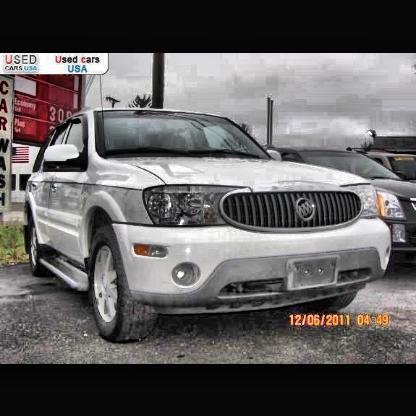Buick Rainier SUV 2007: (23, 106, 397, 330)
